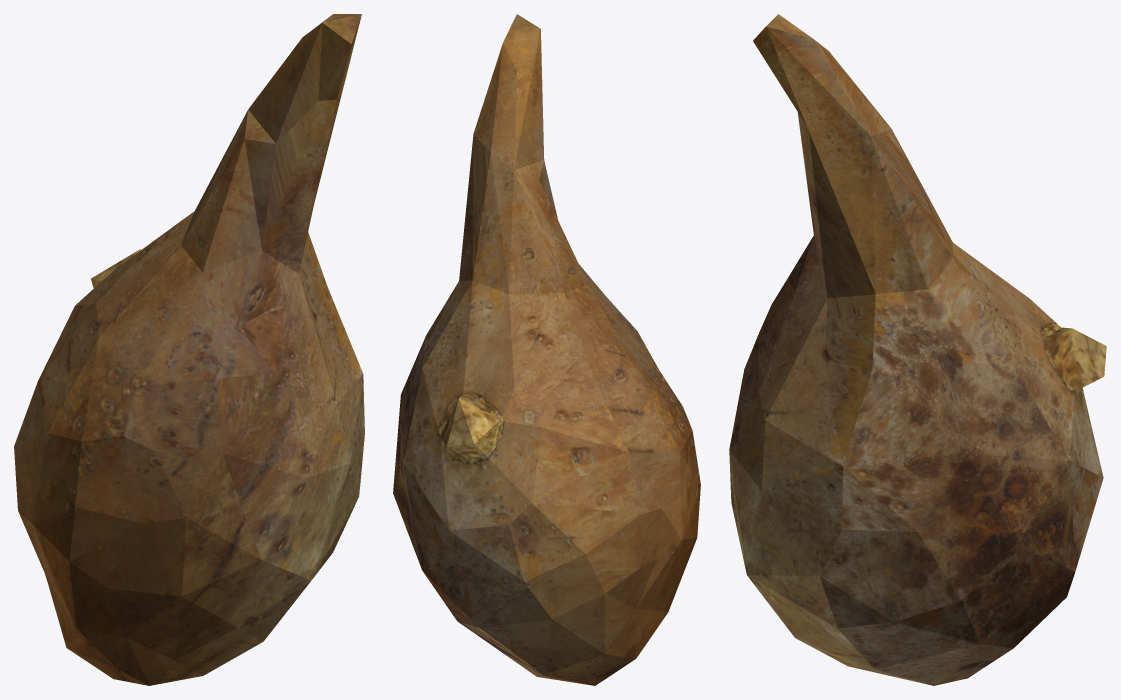
File: HochetCourgeFlippedLP.obj
The picture shows the model from 3 angles, left to right: view 1: azimuth 30°, elevation 25°; view 2: azimuth 150°, elevation 25°; view 3: azimuth 270°, elevation 25°; orthographic projection. The views are drawn at different scales.
Parts seen in each view (by area): view 1: gourd; view 2: gourd; view 3: gourd.
Boxes of the visible parts, x1,y1,x2,y2 form: gourd: (14, 14, 364, 685); gourd: (393, 14, 700, 685); gourd: (729, 14, 1106, 685).
Bounding box in the file's own units: 4.98 × 10.4 × 4.91.
